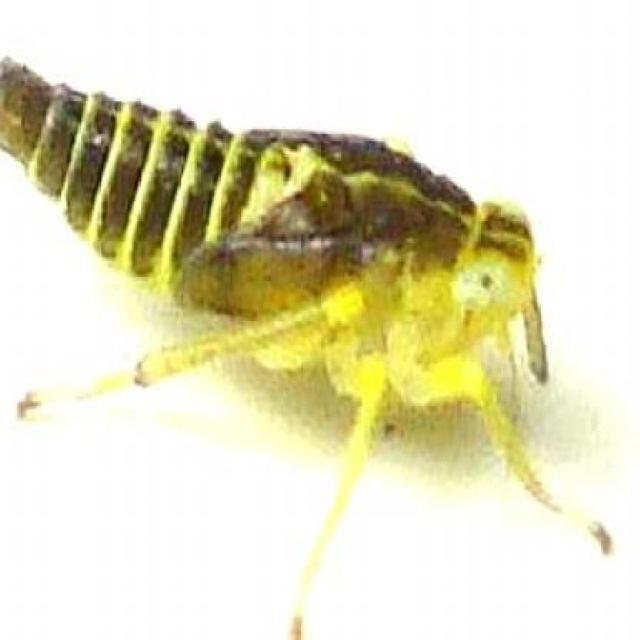green-leafhopper: (6, 51, 534, 474)
